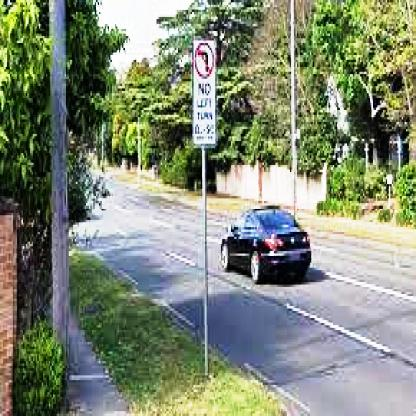No left turn: (192, 38, 217, 81)
